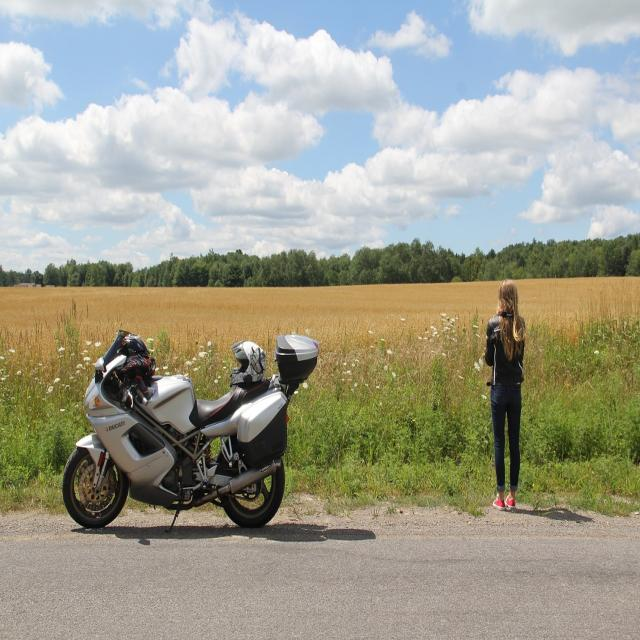MOTORCYCLE: (61, 339, 292, 527)
